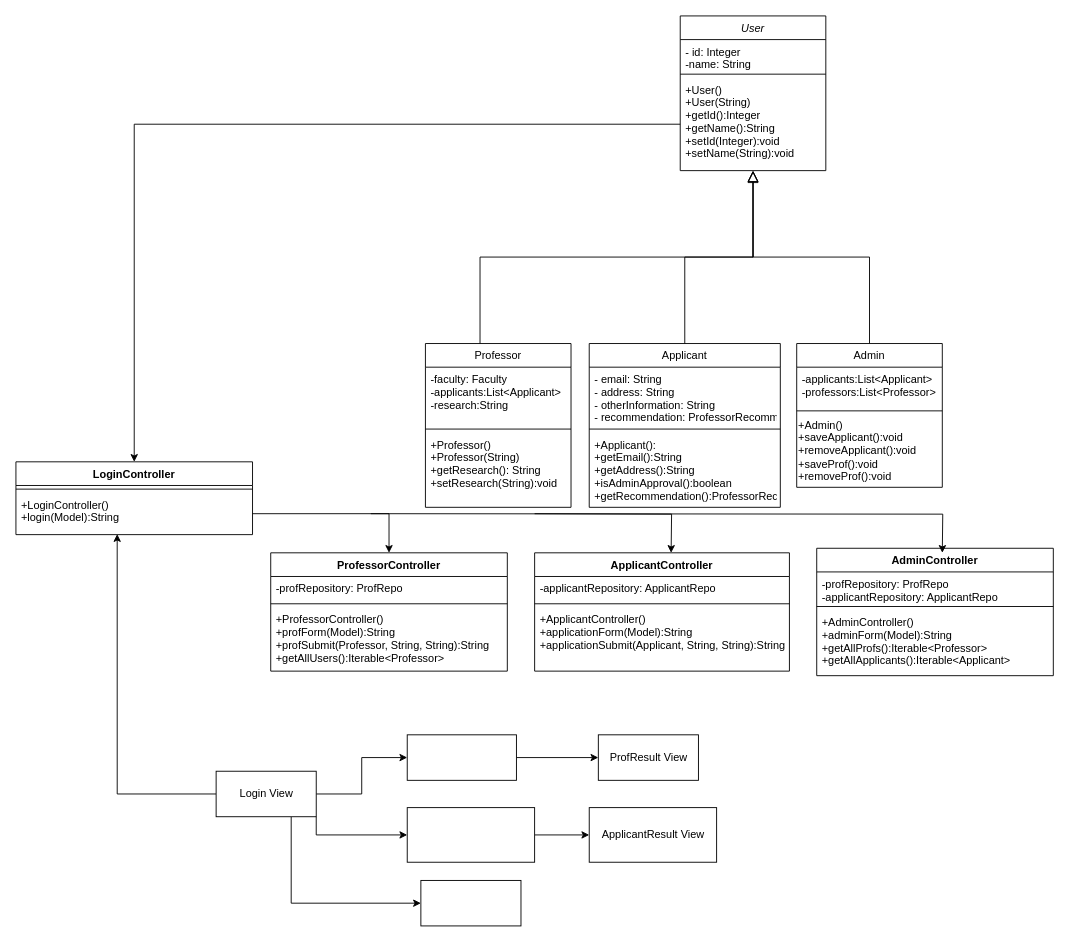
Image size: 1069x942. Some labels were removed from this diagram. The shapes that lost their labels are listed below. From the top down, each one's box as (x1, y1, x2, y2) in pixels, then its label:
(406, 734, 516, 780): ProfApplication View
(406, 807, 535, 862): ApplicantApplication View
(420, 880, 521, 926): Admin View
